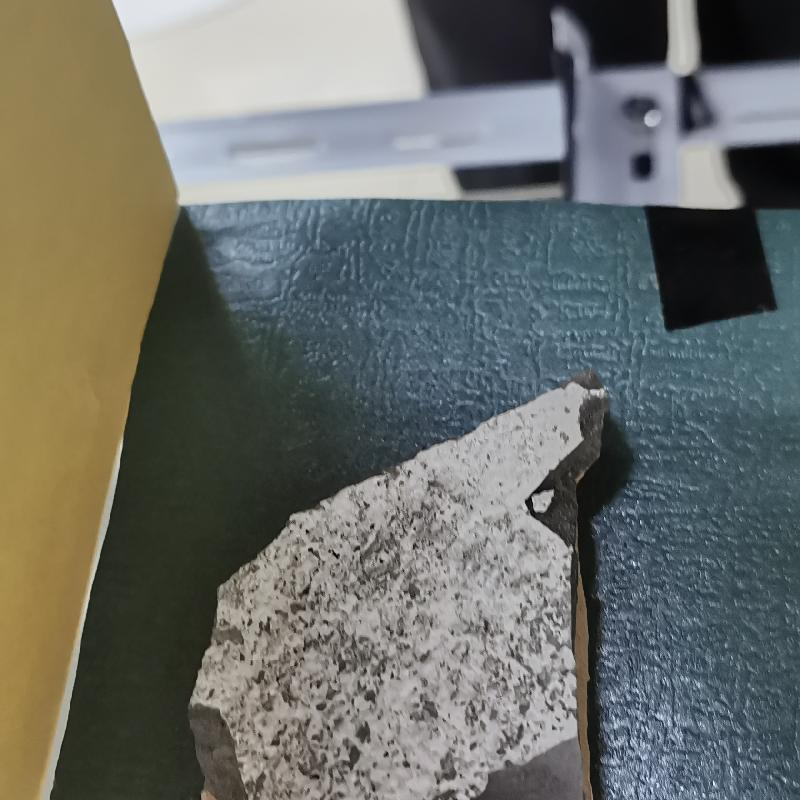tile: (170, 370, 618, 800)
